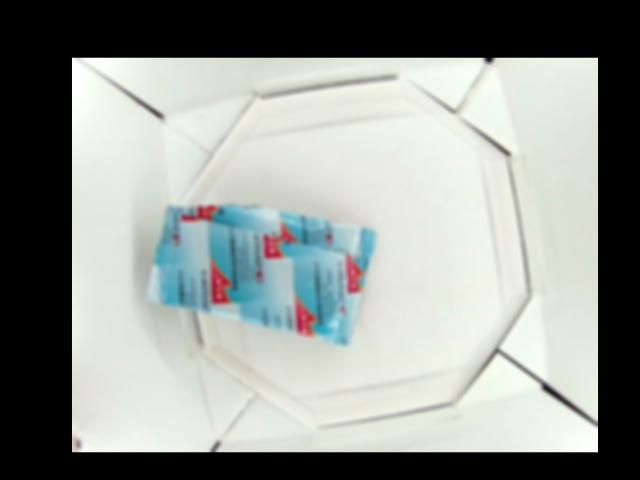Medicine: (144, 201, 378, 343)
